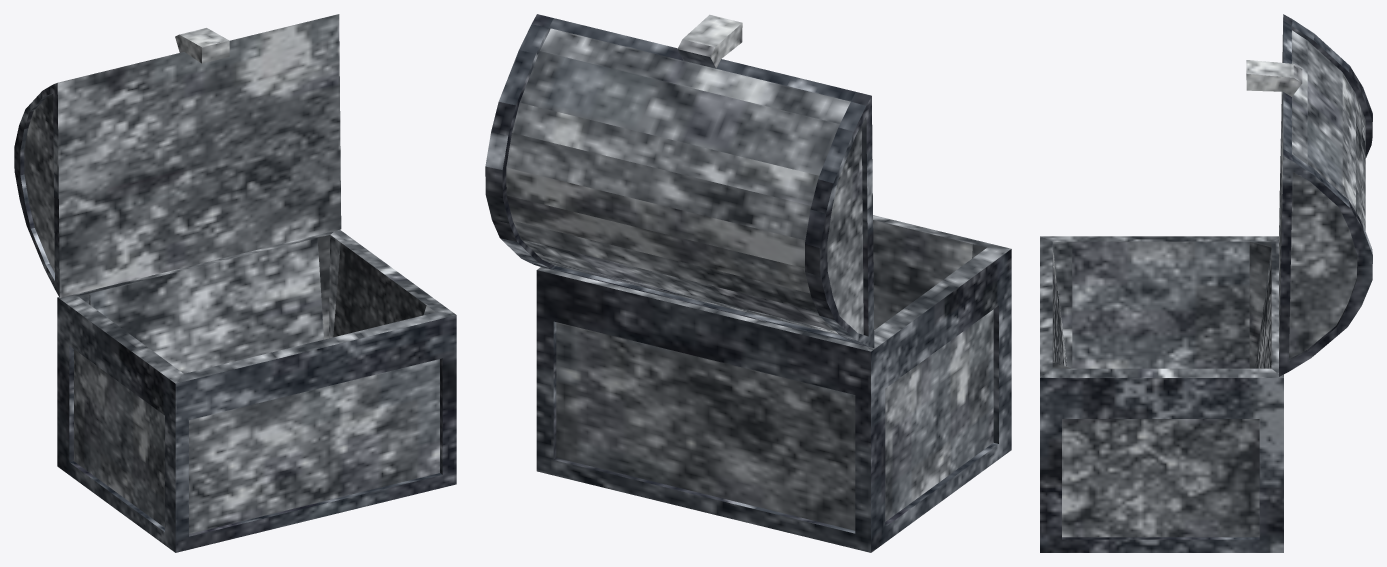
File: OpenTier5Chest.glb
3 renders of one model, left to right at view 1: azimuth 30°, elevation 25°; view 2: azimuth 150°, elevation 25°; view 3: azimuth 270°, elevation 25°, orthographic. The views are drawn at different scales.
Visible parts, largest first — view 1: OpenTier5Chest; view 2: OpenTier5Chest; view 3: OpenTier5Chest.
Part boxes in pixels (x1,y1,x2,y2): OpenTier5Chest: (14,14,456,552); OpenTier5Chest: (485,14,1011,552); OpenTier5Chest: (1040,14,1372,552).
Size of the model in its own units: 0.686 by 0.9352 by 0.6799.
3 materials, 3 textured.
